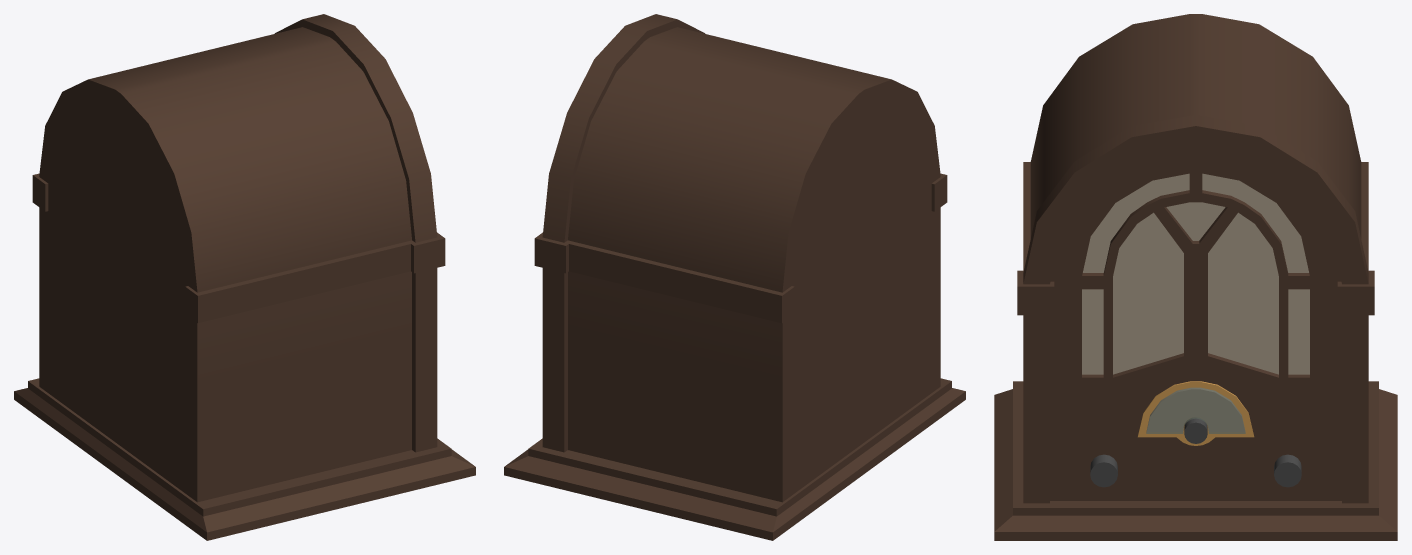
File: S_Radio.fbx
The picture shows the model from 3 angles, left to right: view 1: azimuth 30°, elevation 25°; view 2: azimuth 150°, elevation 25°; view 3: azimuth 270°, elevation 25°; orthographic projection. The views are drawn at different scales.
Parts seen in each view (by area): view 1: S_Radio; view 2: S_Radio; view 3: S_Radio.
Part boxes in pixels (x1,y1,x2,y2): S_Radio: (14, 14, 475, 540); S_Radio: (504, 14, 965, 540); S_Radio: (994, 14, 1397, 540).
Bounding box in the file's own units: 61.78 × 84.54 × 76.84.
